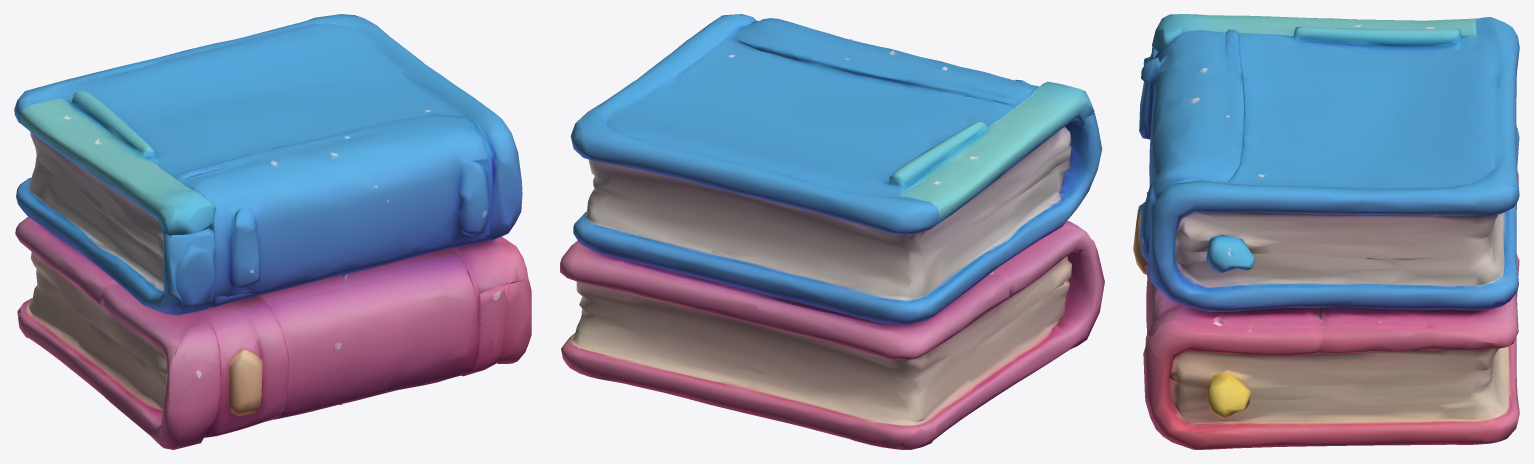
Rendered from books_h3.glb.
3 renders of one model, left to right at view 1: azimuth 30°, elevation 25°; view 2: azimuth 150°, elevation 25°; view 3: azimuth 270°, elevation 25°, orthographic. The views are drawn at different scales.
Parts seen in each view (by area): view 1: tripo_node_bff0e5d4-fdb1-4e06-b53e-6259549358b3; view 2: tripo_node_bff0e5d4-fdb1-4e06-b53e-6259549358b3; view 3: tripo_node_bff0e5d4-fdb1-4e06-b53e-6259549358b3.
Boxes of the visible parts, x1,y1,x2,y2 form: tripo_node_bff0e5d4-fdb1-4e06-b53e-6259549358b3: (14, 14, 531, 449); tripo_node_bff0e5d4-fdb1-4e06-b53e-6259549358b3: (560, 14, 1104, 449); tripo_node_bff0e5d4-fdb1-4e06-b53e-6259549358b3: (1133, 14, 1519, 449).
Size of the model in its own units: 1 by 0.6179 by 0.8024.
1 material, 1 textured.
